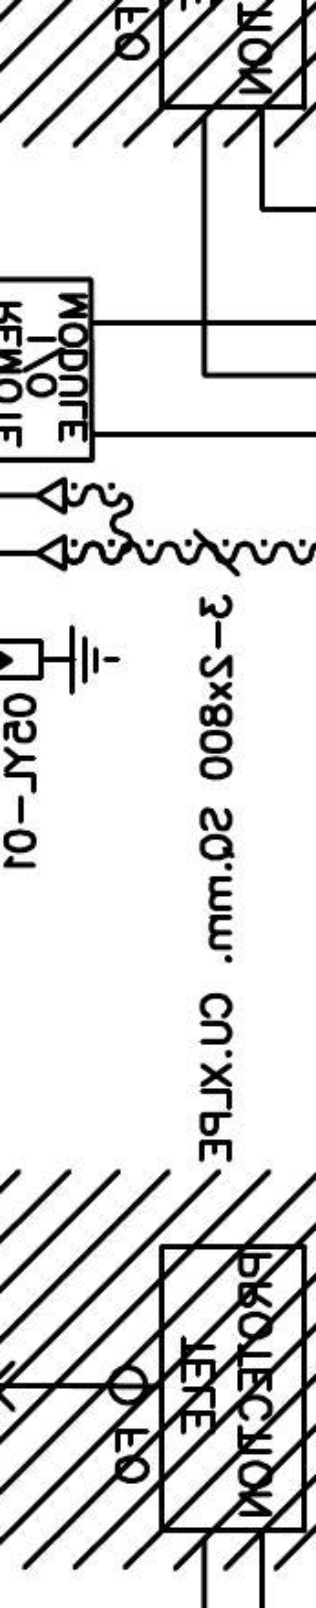tele_protection: (154, 1239, 312, 1537)
